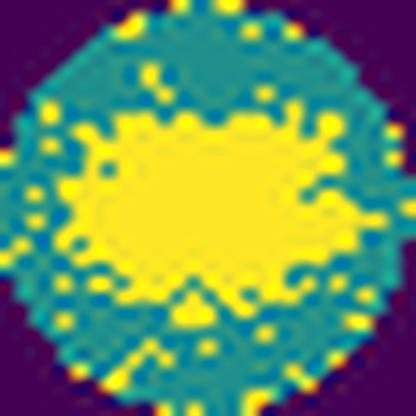Center: (53, 116, 381, 327)
